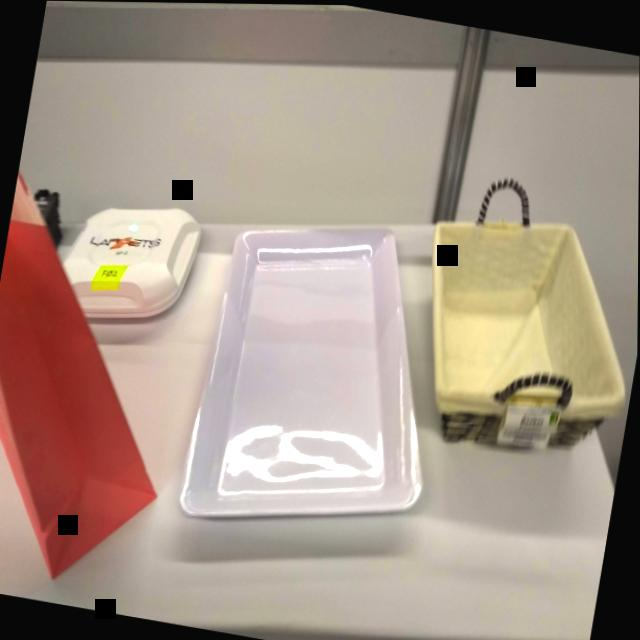basket: (393, 160, 639, 486)
tray: (175, 200, 468, 555)
